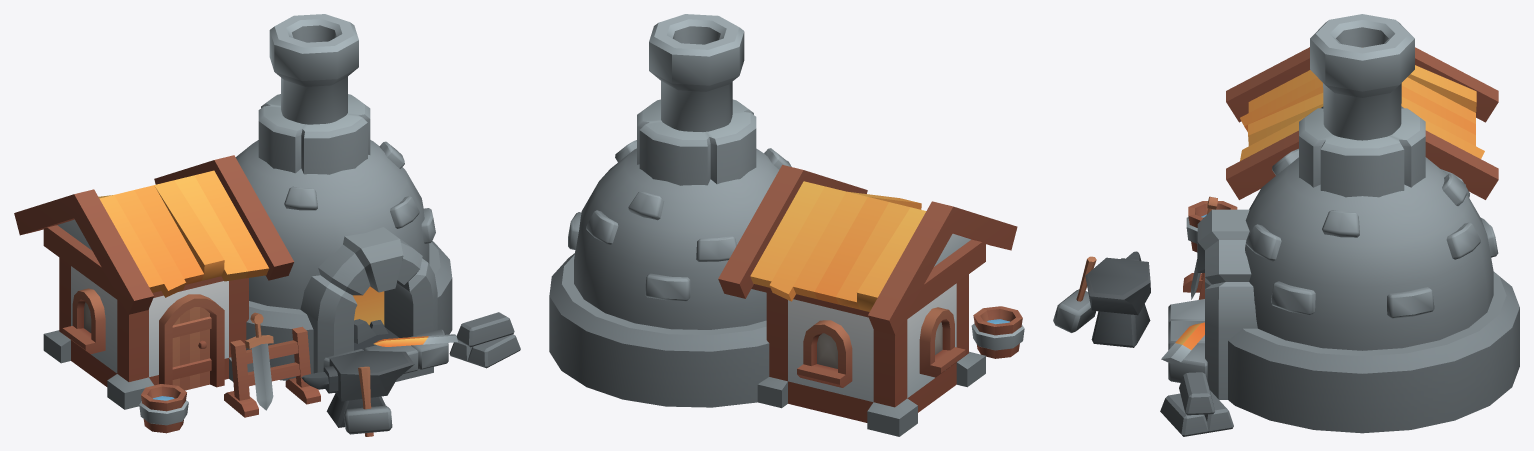
File: blacksmith_yellow.glb
3 renders of one model, left to right at view 1: azimuth 30°, elevation 25°; view 2: azimuth 150°, elevation 25°; view 3: azimuth 270°, elevation 25°, orthographic. The views are drawn at different scales.
Parts seen in each view (by area): view 1: blacksmith_yellow; view 2: blacksmith_yellow; view 3: blacksmith_yellow.
Part boxes in pixels (bbox=[...]): blacksmith_yellow: bbox=[14, 14, 520, 436]; blacksmith_yellow: bbox=[549, 14, 1024, 436]; blacksmith_yellow: bbox=[1053, 14, 1519, 436].
Bounding box in the file's own units: 0.6438 × 0.4926 × 0.6226.
Materials: 1 (1 with a texture image).
